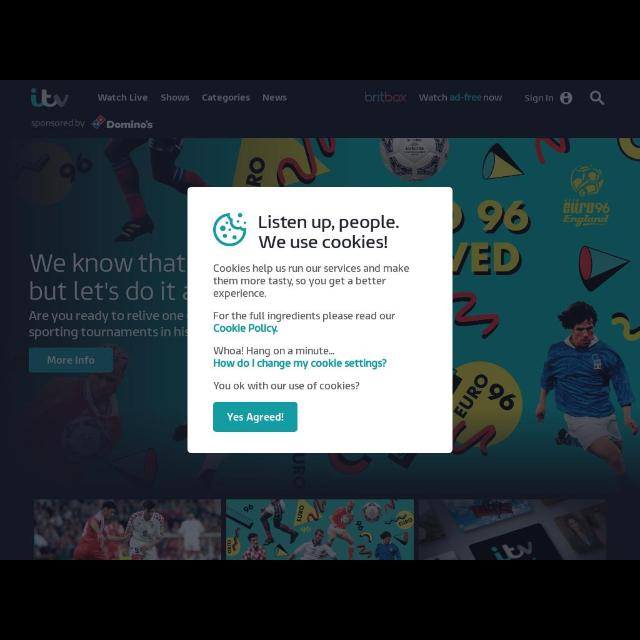backgroundimage: (1, 140, 640, 558)
icon: (590, 91, 604, 105), (560, 92, 572, 104)
image: (419, 499, 609, 559), (35, 499, 221, 559), (227, 499, 413, 559), (213, 212, 247, 245), (91, 115, 152, 128), (30, 89, 68, 108)
text: (29, 254, 188, 302), (212, 263, 410, 297), (258, 215, 399, 249), (29, 310, 187, 340), (213, 346, 387, 370), (213, 312, 394, 334), (213, 382, 359, 390), (418, 94, 502, 102), (226, 413, 284, 423), (365, 90, 407, 102), (202, 95, 250, 104), (31, 120, 85, 128), (46, 356, 96, 364), (98, 95, 148, 102), (524, 95, 554, 104), (160, 94, 190, 100), (263, 95, 287, 102)
textbutton: (214, 402, 298, 432), (29, 346, 113, 372)
toolbar: (1, 80, 640, 138)
